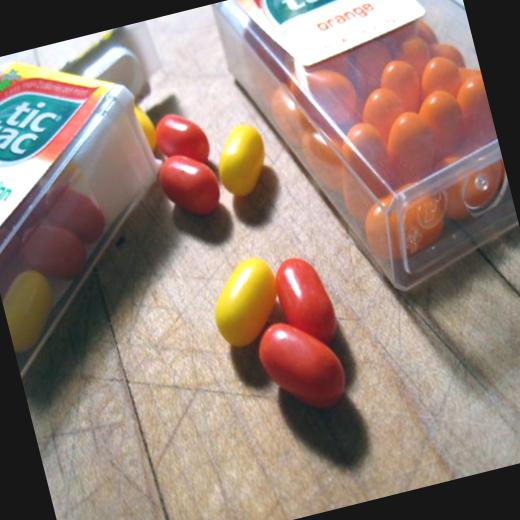Grape: (356, 172, 451, 268), (368, 98, 446, 187), (289, 58, 366, 139), (332, 122, 394, 210), (412, 88, 470, 172), (373, 50, 427, 127), (439, 152, 500, 217), (344, 42, 395, 104), (356, 87, 401, 150), (415, 51, 466, 98), (454, 74, 491, 132), (429, 39, 464, 70)
